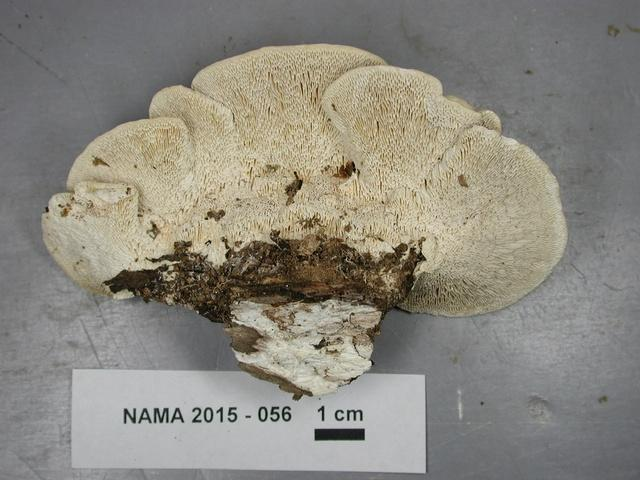poisonous_mushroom: (40, 41, 569, 397)
